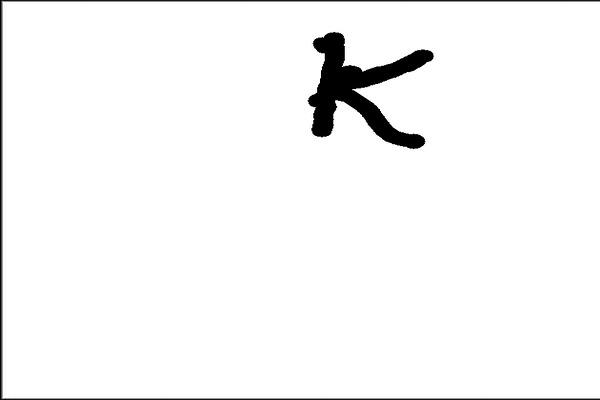K: (298, 28, 443, 162)
